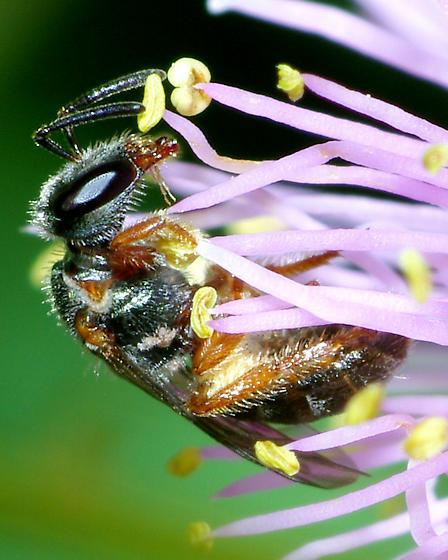Lasioglossum: (27, 43, 418, 486)
